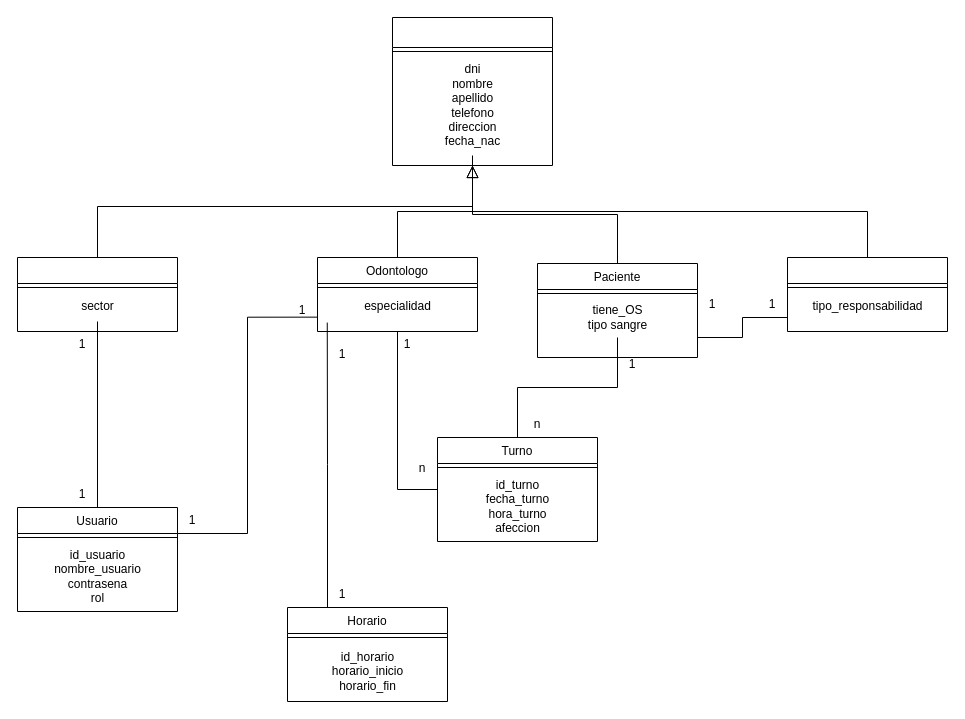
Image size: 965x719. Some labels were removed from this diagram. Each missing label, with the box of its shape:
Persona: (392, 16, 552, 166)
Responsable: (786, 256, 948, 332)
Secretario: (16, 256, 178, 332)
